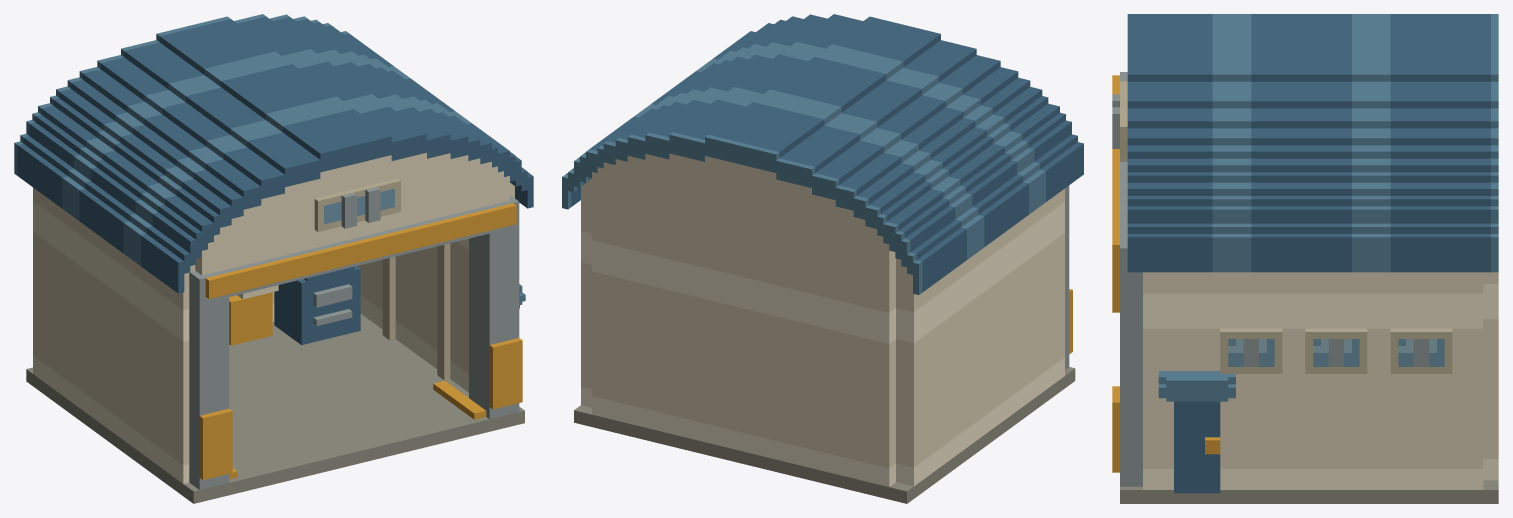
File: maintenance_hangar.glb
The picture shows the model from 3 angles, left to right: view 1: azimuth 30°, elevation 25°; view 2: azimuth 150°, elevation 25°; view 3: azimuth 270°, elevation 25°; orthographic projection. The views are drawn at different scales.
Parts seen in each view (by area): view 1: maintenance_hangar; view 2: maintenance_hangar; view 3: maintenance_hangar.
Part boxes in pixels (x1,y1,x2,y2): maintenance_hangar: [14, 14, 533, 503]; maintenance_hangar: [562, 14, 1083, 503]; maintenance_hangar: [1112, 14, 1498, 503].
Bounding box in the file's own units: 6.1 × 5.1 × 5.
